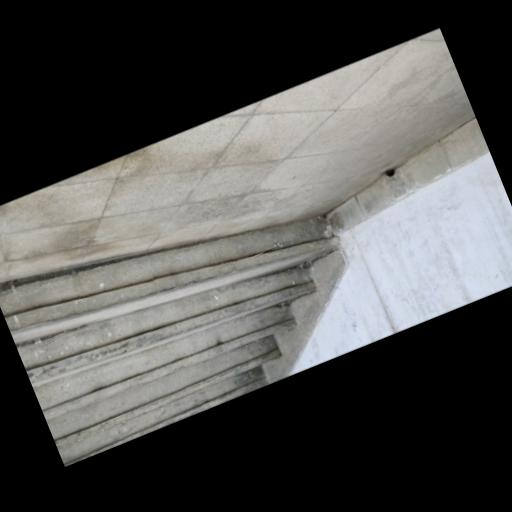stairs: (0, 217, 338, 465)
